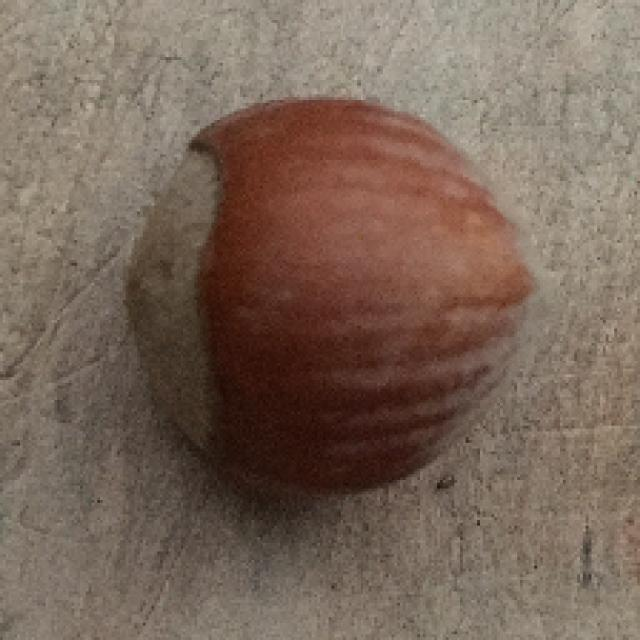QualityHazelnut: (125, 97, 557, 497)
